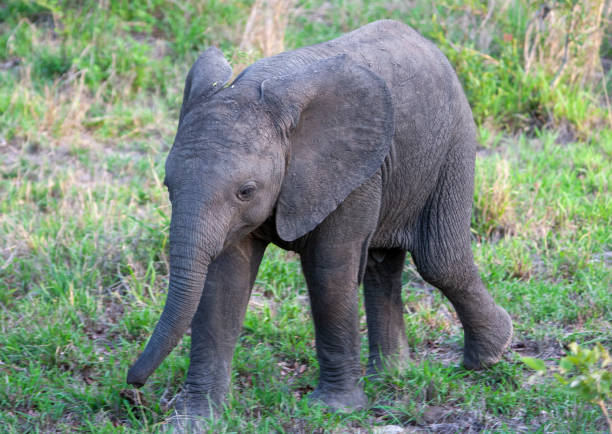africanelephant: (91, 62, 301, 379)
